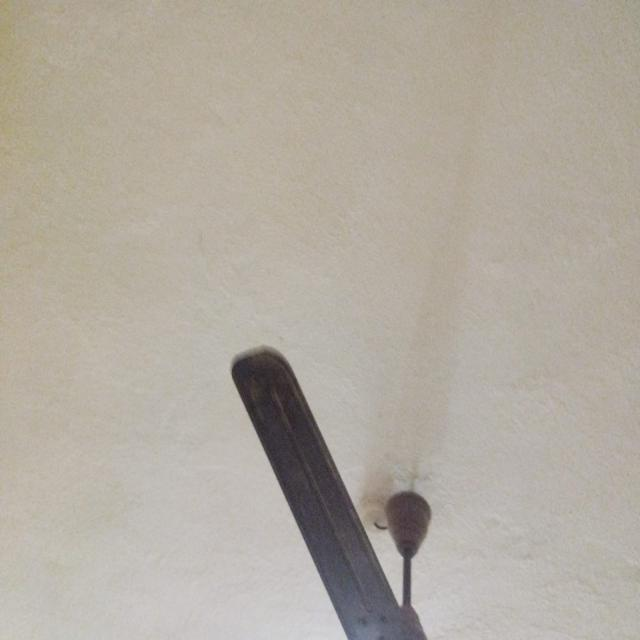fan_off: (230, 348, 437, 640)
